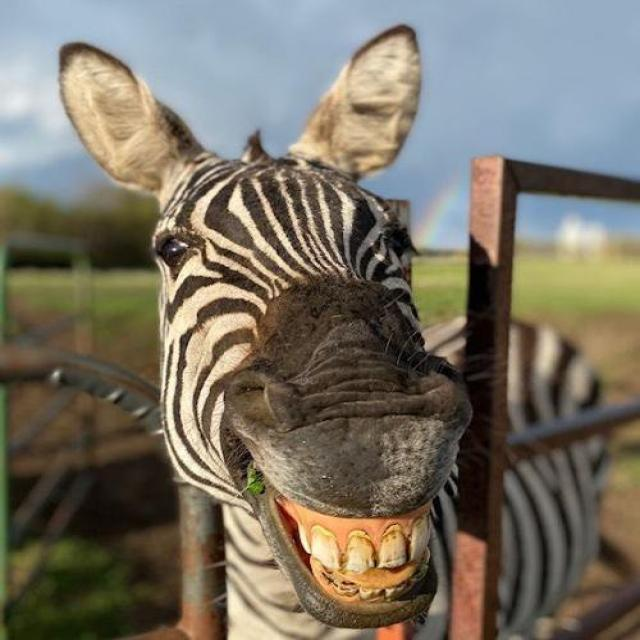Zebra: (58, 36, 605, 640)
